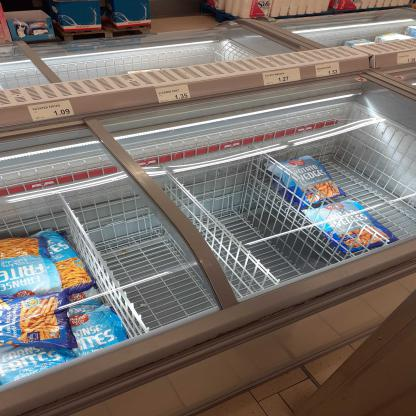prtg: (28, 101, 76, 122), (262, 68, 302, 87), (156, 85, 191, 104), (316, 63, 341, 79), (398, 51, 416, 66)
